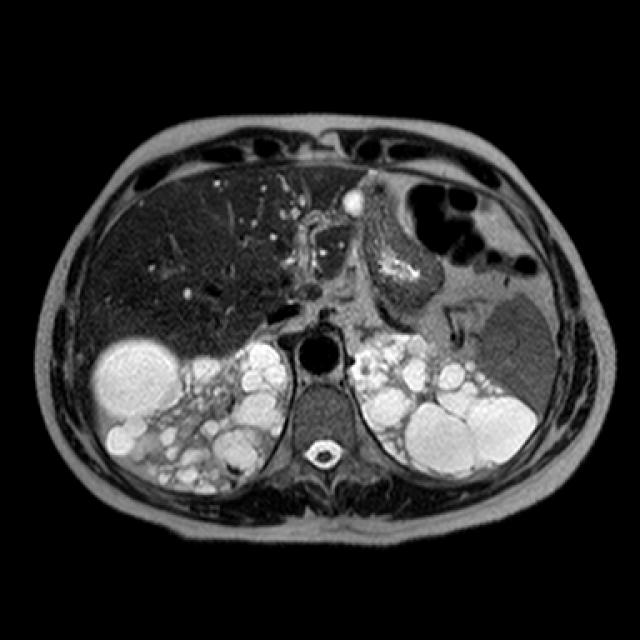sag: (91, 339, 287, 496)
sol: (346, 332, 537, 479)
